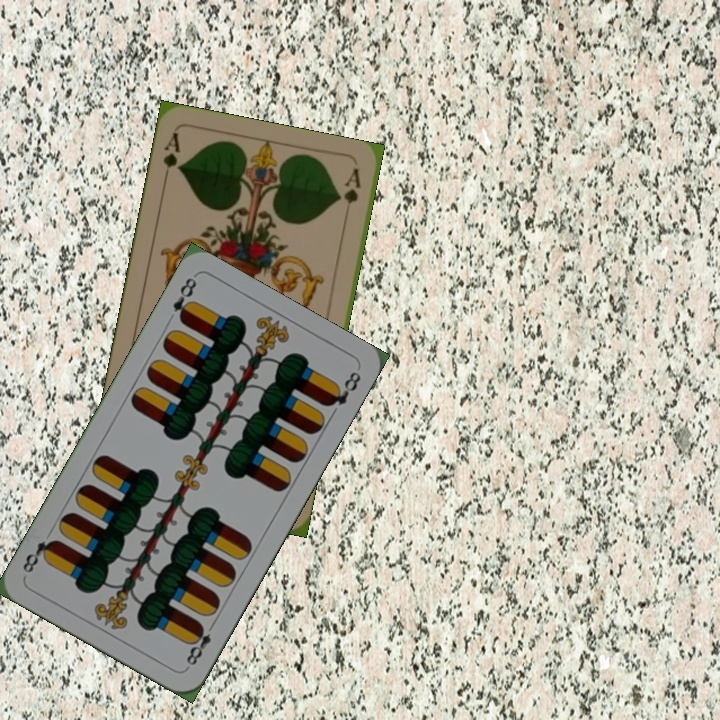E8: (182, 617, 219, 671), (168, 273, 200, 325)
GA: (159, 128, 183, 187)
